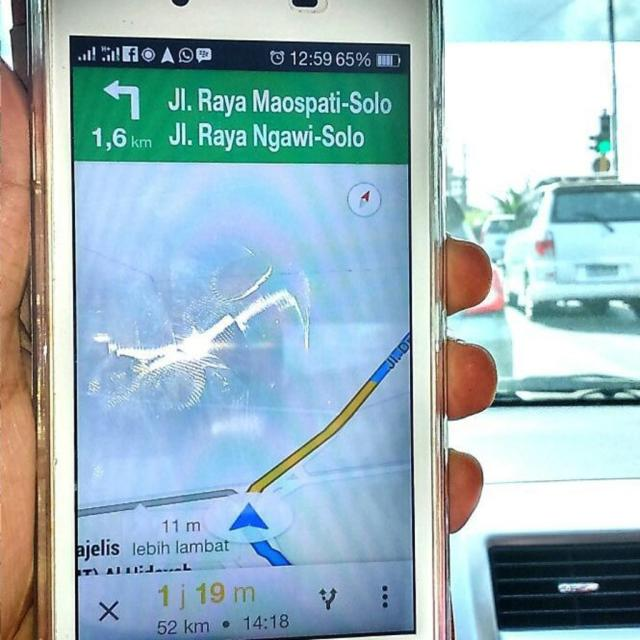Mobile-phone: (9, 0, 458, 639)
